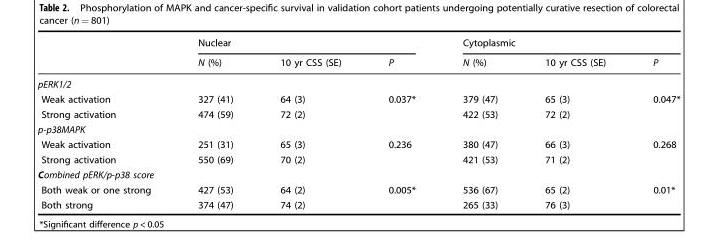table: (37, 36, 679, 210)
table column: (37, 36, 173, 210), (256, 36, 364, 210), (520, 36, 628, 210), (173, 36, 256, 210), (438, 36, 520, 210), (364, 36, 438, 210), (628, 36, 679, 210)
table column header: (37, 36, 679, 72)
table projected row header: (37, 72, 679, 91), (37, 121, 679, 136), (37, 166, 679, 181)
table row: (37, 52, 679, 72), (37, 72, 679, 91), (37, 36, 679, 52), (37, 181, 679, 197), (37, 91, 679, 106), (37, 106, 679, 121), (37, 121, 679, 136), (37, 136, 679, 151), (37, 151, 679, 166), (37, 166, 679, 181), (37, 197, 679, 210)
table spanning cell: (173, 36, 438, 52), (438, 36, 679, 52)
